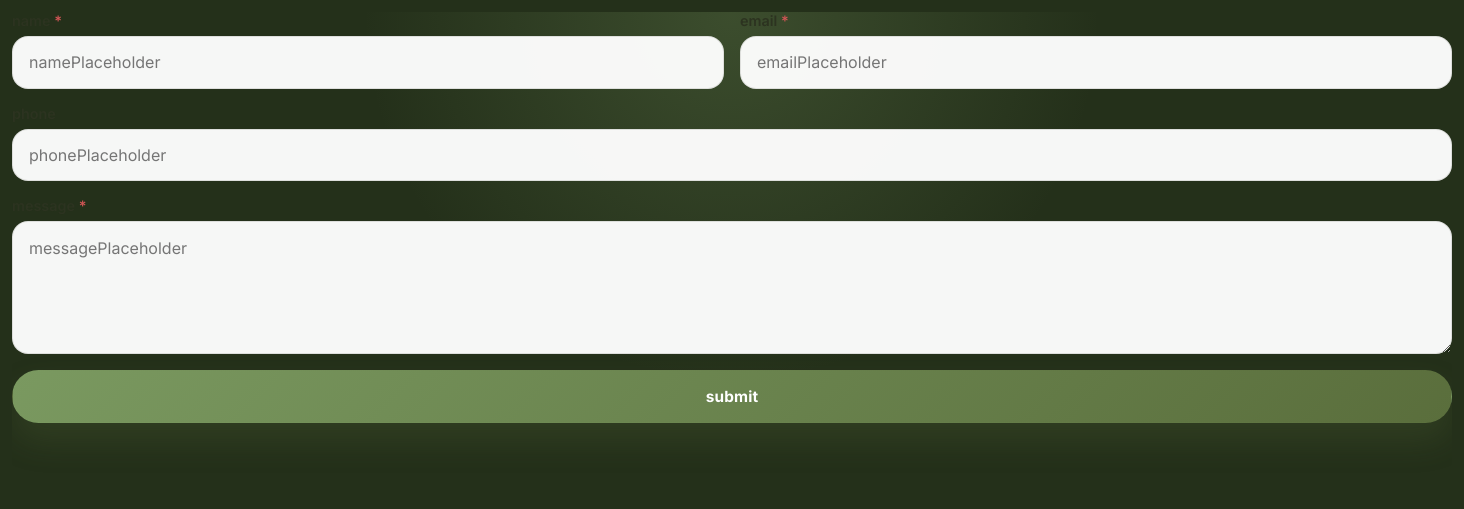
Test: ContactForm › shows error message when the API returns a non-ok response
Type "Jane Doe" into the field labelled "name *" at (368, 62), box x1=12 y1=36 x2=724 y2=89
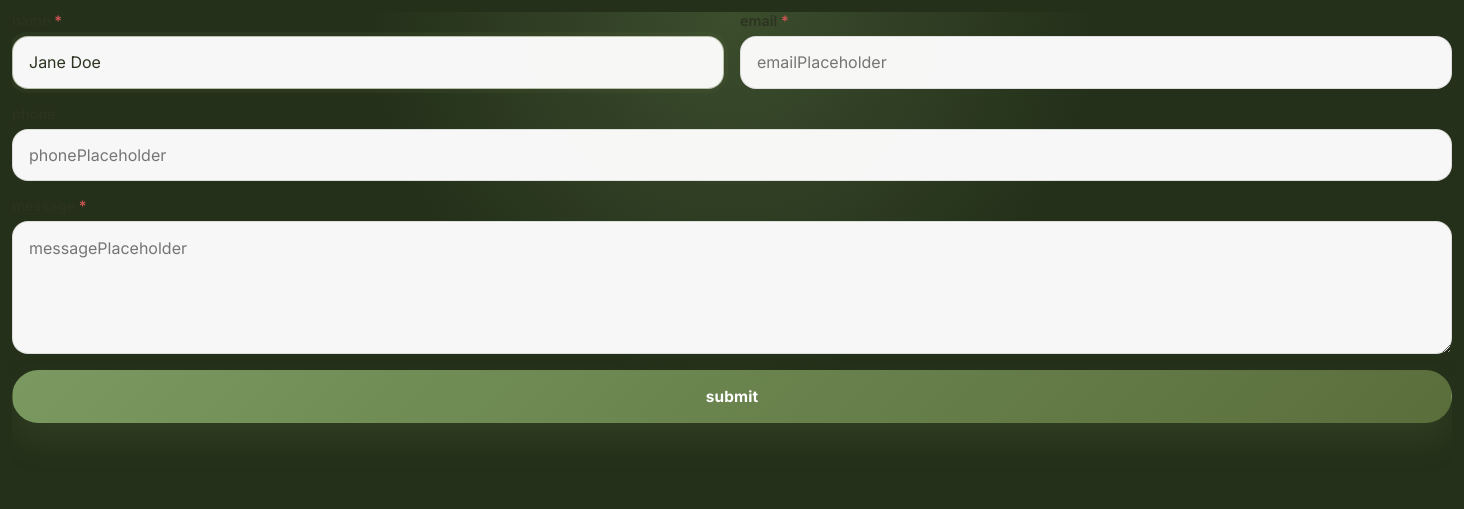
Type "jane@example.com" into the field labelled "email *" at (1096, 62), box x1=740 y1=36 x2=1452 y2=89
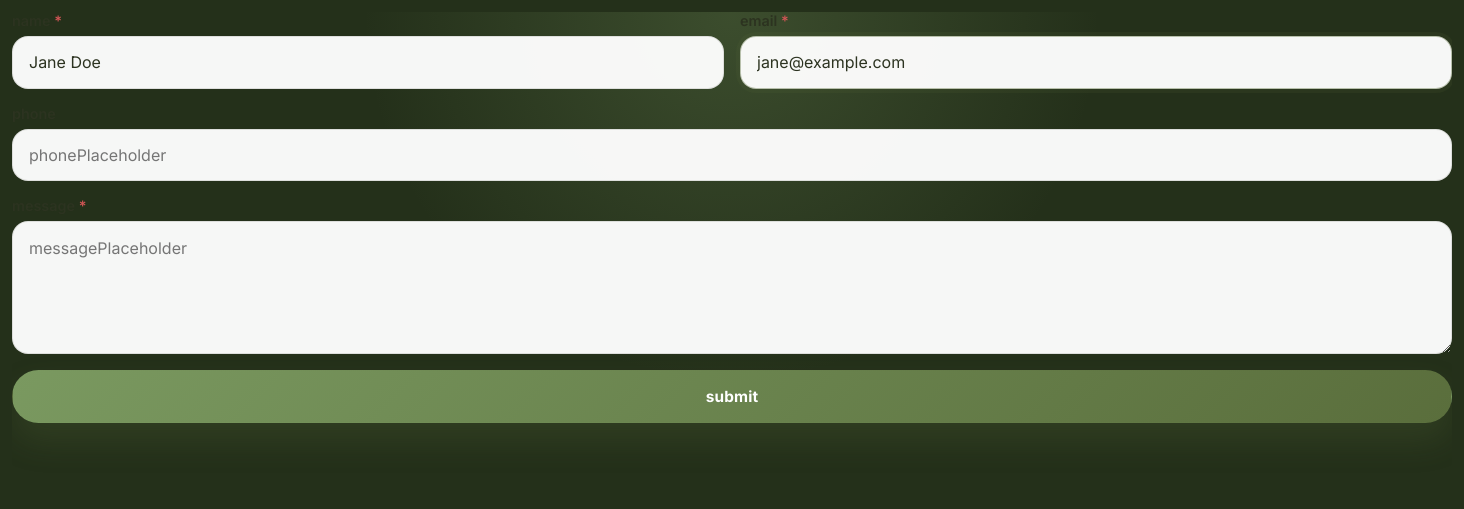
Type "Hello!" into the text box labelled "message *" at (732, 288), box x1=12 y1=221 x2=1452 y2=354
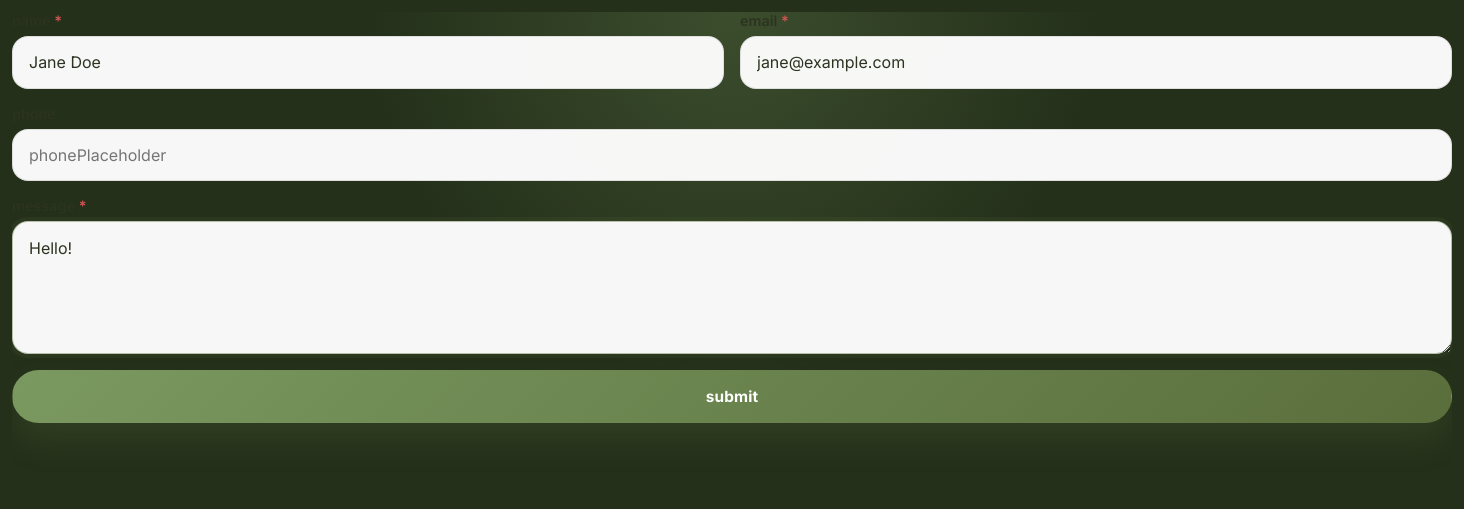
Click the button "submit" at (732, 396), box x1=12 y1=370 x2=1452 y2=423
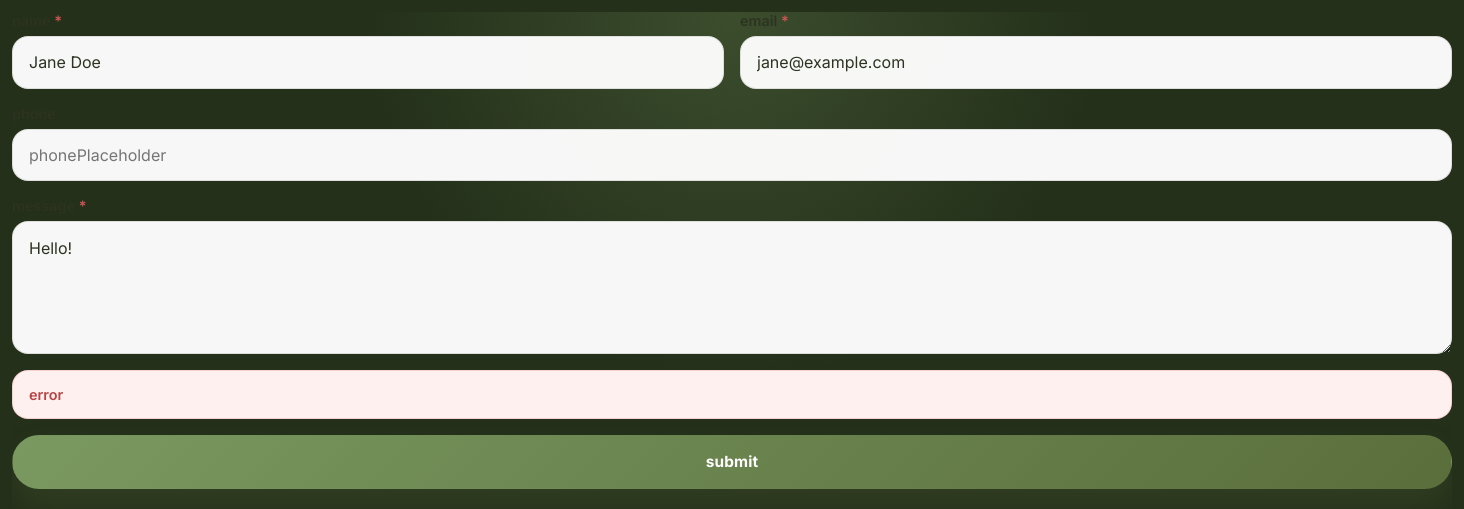
Now the text "error" is shown, box x1=12 y1=370 x2=1452 y2=419
